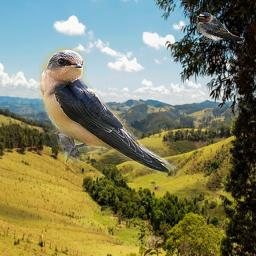Swallow: (39, 42, 183, 180), (195, 12, 245, 45)
